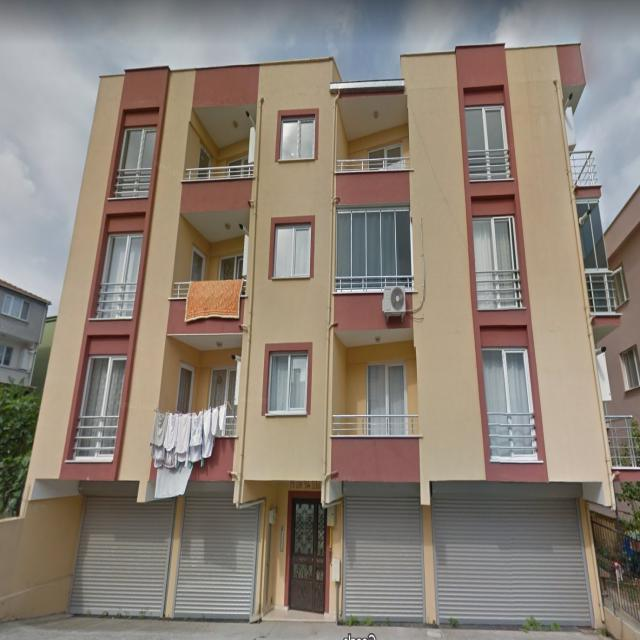Building: (0, 41, 638, 627)
